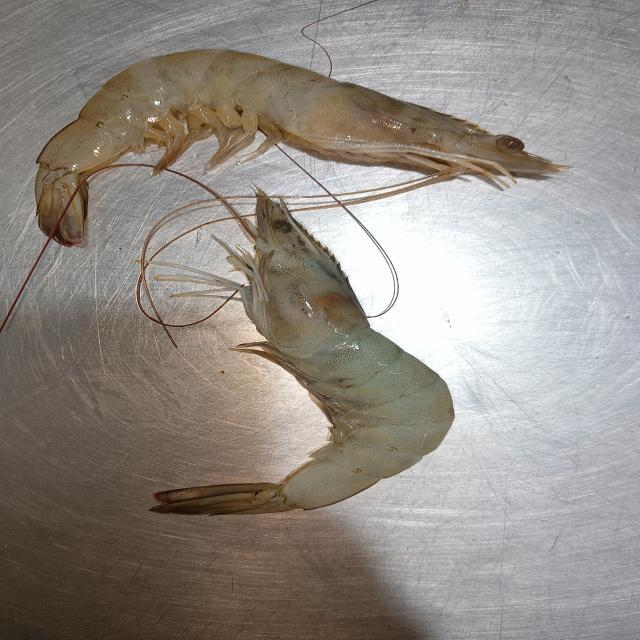shrimp: (34, 49, 566, 241), (154, 191, 454, 513)
